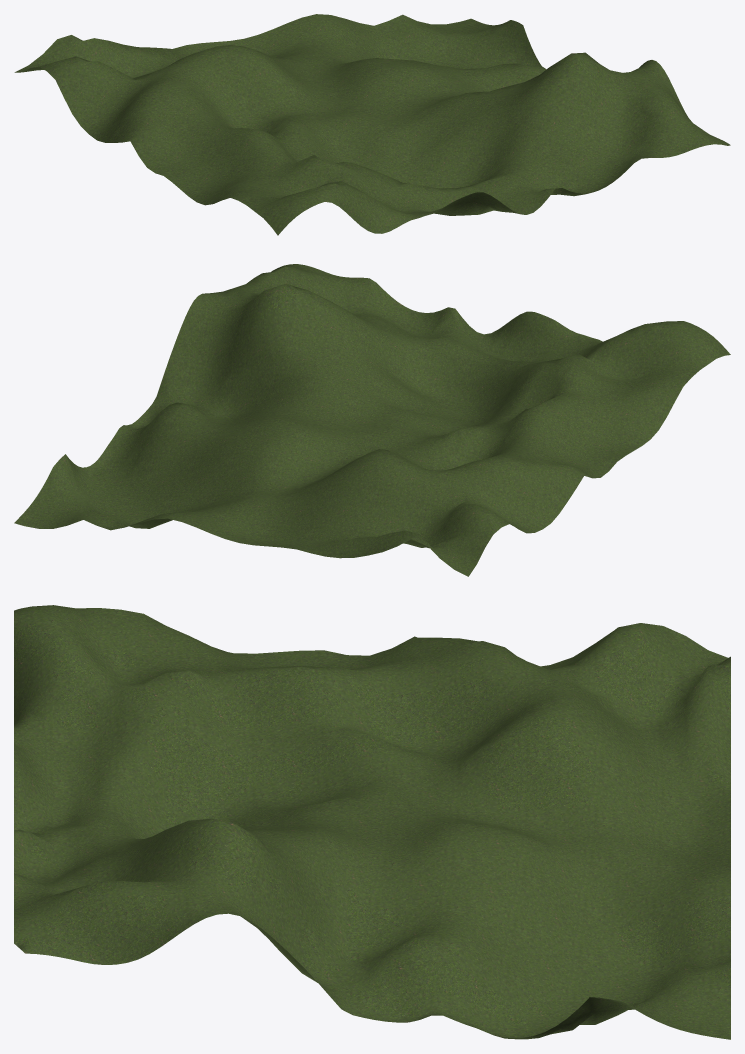
File: Level1B6.fbx
3 views of the same model, one above another, from view 1: azimuth 30°, elevation 25°; view 2: azimuth 150°, elevation 25°; view 3: azimuth 270°, elevation 25° (orthographic). The views are drawn at different scales.
Parts seen in each view (by area): view 1: Landscape; view 2: Landscape; view 3: Landscape.
Part boxes in pixels (x1,y1,x2,y2): Landscape: [14, 14, 730, 235]; Landscape: [14, 264, 730, 576]; Landscape: [14, 605, 730, 1039].
Bounding box in the file's own units: 17167 × 4399 × 17167.
